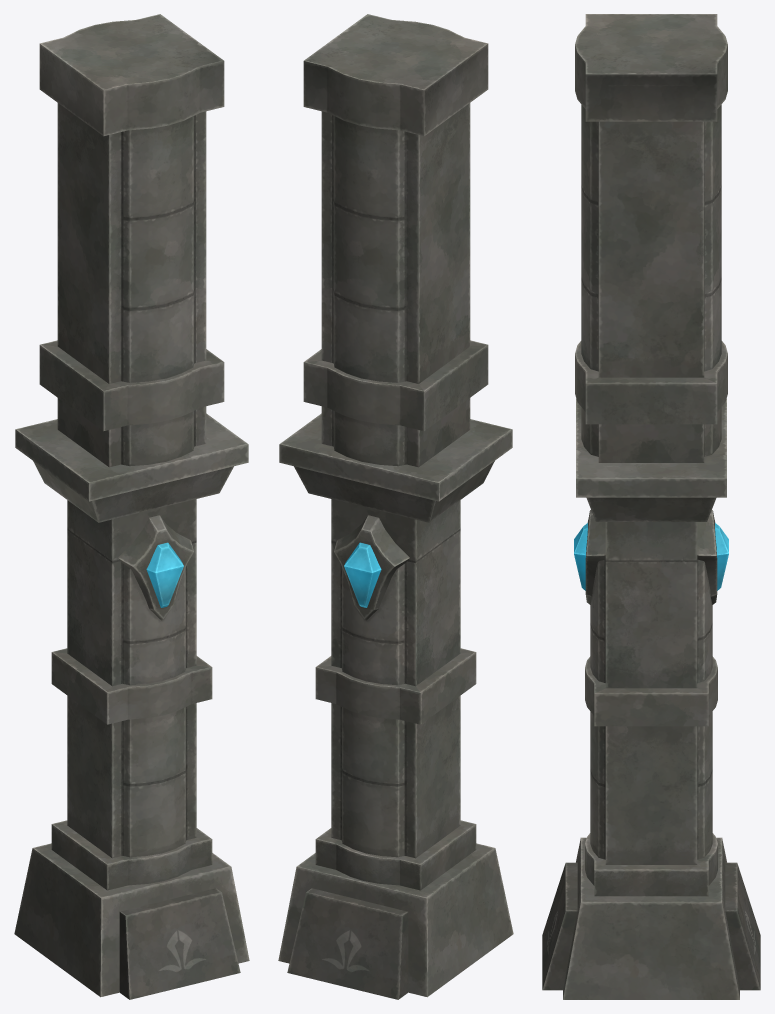
Rendered from archway_pillar.fbx.
3 renders of one model, left to right at view 1: azimuth 30°, elevation 25°; view 2: azimuth 150°, elevation 25°; view 3: azimuth 270°, elevation 25°, orthographic. The views are drawn at different scales.
Visible parts, largest first — view 1: archway_pillar; view 2: archway_pillar; view 3: archway_pillar.
Boxes of the visible parts, <box> form: archway_pillar: <box>14,14,249,999</box>; archway_pillar: <box>278,14,513,999</box>; archway_pillar: <box>542,14,760,999</box>.
Size of the model in its own units: 93.3 by 500 by 108.
